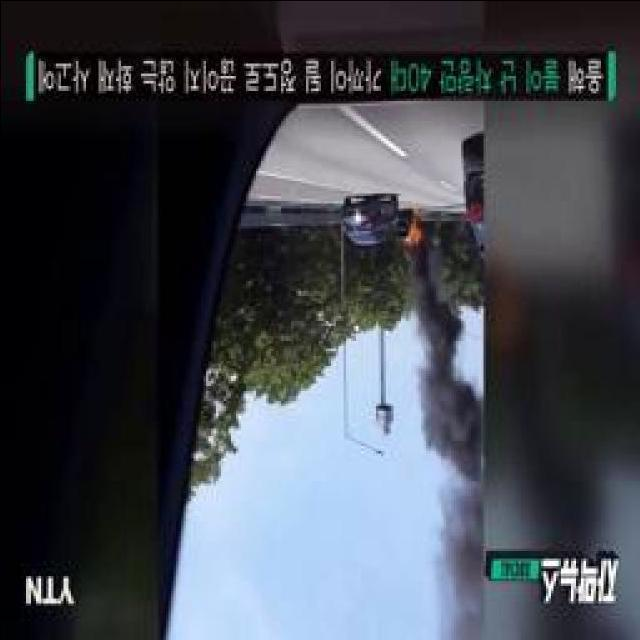Fire: (404, 212, 428, 245)
